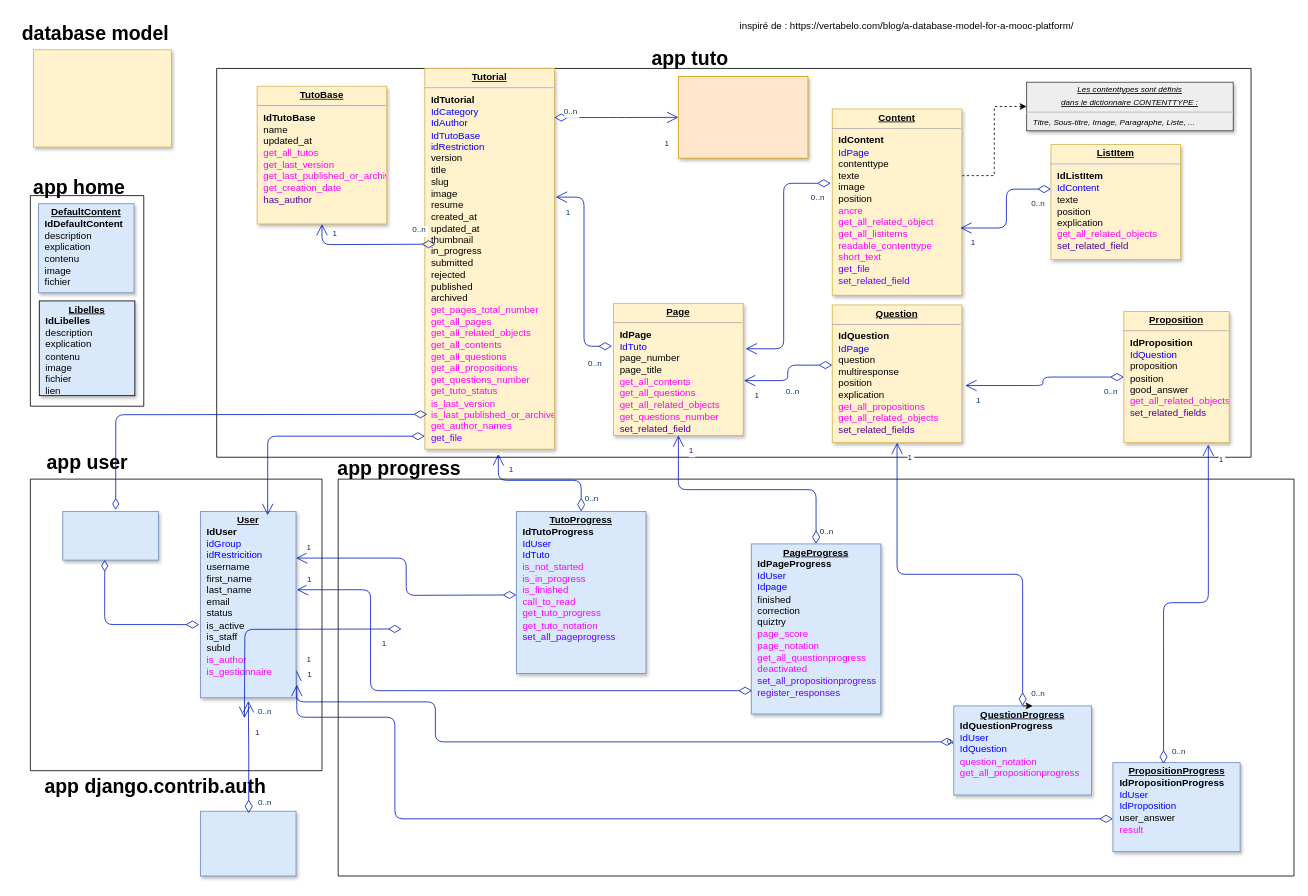
This 1308x896 diagram has some shape labels left out. Here are the shapes that lost their labels. From the top down, the centre of each, then its label:
pixel 103 99: Nom de la classe Id : champ id Clé étrangère champ propriété méthode
pixel 743 118: Category IdCategory name slug position
pixel 111 536: Restiction IdUser name
pixel 248 844: Group IdGroup Users groupname
